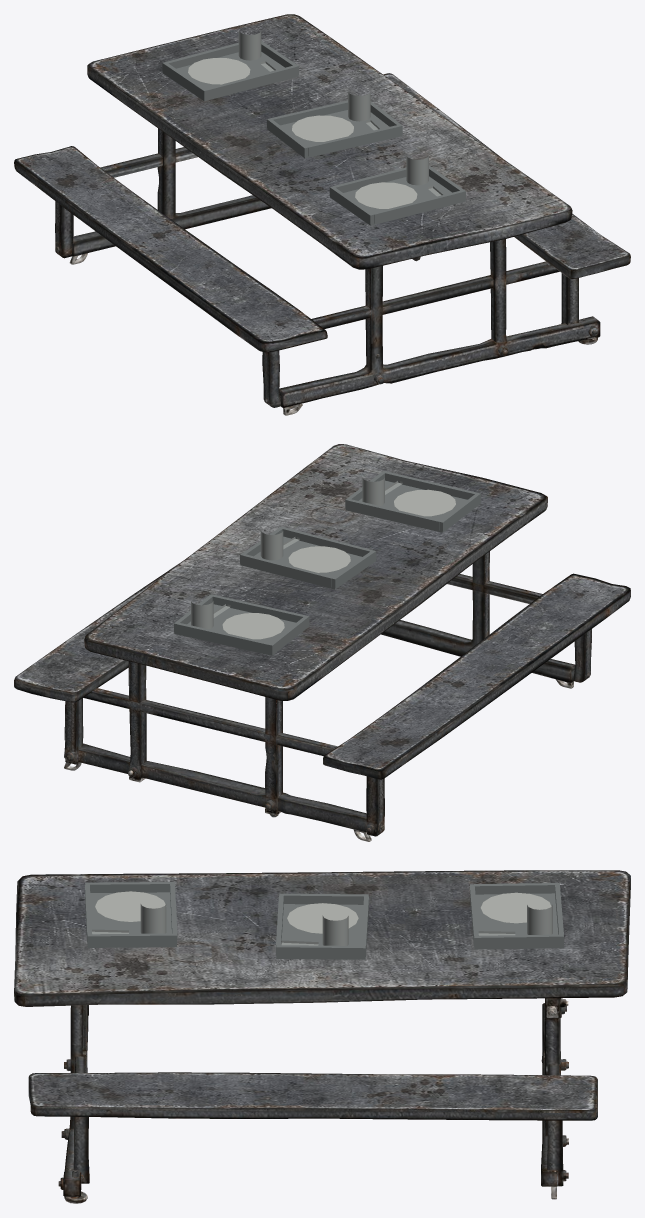
The model's file is Cafeteria Table - Bunker Trays and Cups.glb.
3 views of the same model, one above another, from view 1: azimuth 30°, elevation 25°; view 2: azimuth 150°, elevation 25°; view 3: azimuth 270°, elevation 25° (orthographic). The views are drawn at different scales.
Visible parts, largest first — view 1: tripo_node_c90150de-4281-4c37-b81a-581b04025a6d, Tabletop Trays Plates Cups; view 2: tripo_node_c90150de-4281-4c37-b81a-581b04025a6d, Tabletop Trays Plates Cups; view 3: tripo_node_c90150de-4281-4c37-b81a-581b04025a6d, Tabletop Trays Plates Cups.
Part boxes in pixels (<box>): tripo_node_c90150de-4281-4c37-b81a-581b04025a6d: <box>14,14,630,415</box>; Tabletop Trays Plates Cups: <box>162,31,465,225</box>; tripo_node_c90150de-4281-4c37-b81a-581b04025a6d: <box>14,444,630,841</box>; Tabletop Trays Plates Cups: <box>174,471,480,655</box>; tripo_node_c90150de-4281-4c37-b81a-581b04025a6d: <box>14,870,630,1203</box>; Tabletop Trays Plates Cups: <box>85,882,563,959</box>.
Size of the model in its own units: 0.8003 by 0.3984 by 0.9995.
Materials: 4 (1 with a texture image).
